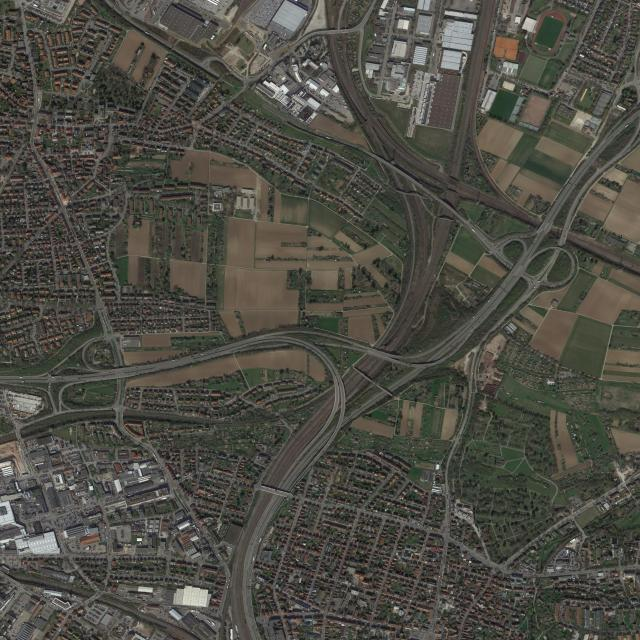storage-tank: (211, 37, 214, 40), (212, 35, 215, 38)
